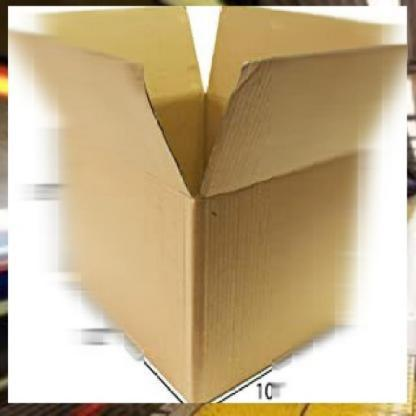-: (2, 0, 414, 410)
